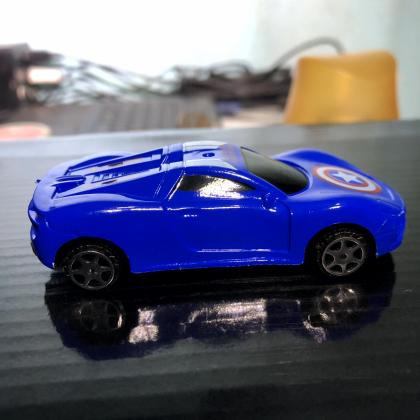Car: (27, 142, 408, 295)
